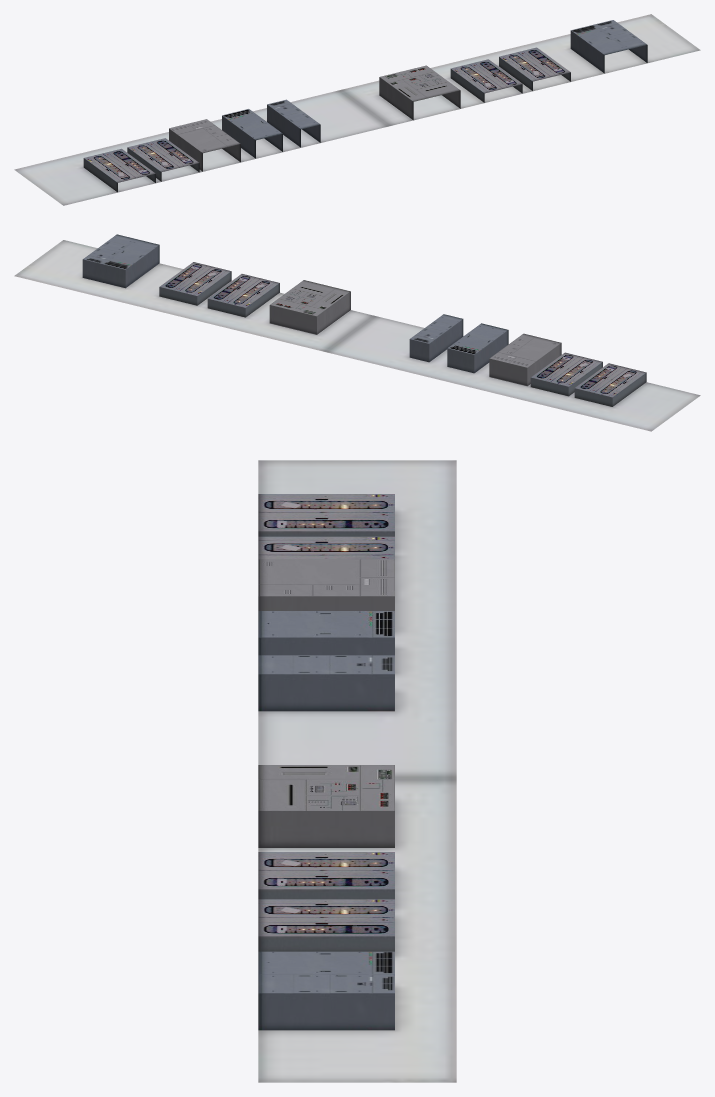
The model's file is murhaut_ar_tri.fbx.
3 views of the same model, one above another, from view 1: azimuth 30°, elevation 25°; view 2: azimuth 150°, elevation 25°; view 3: azimuth 270°, elevation 25° (orthographic). The views are drawn at different scales.
Parts seen in each view (by area): view 1: ShapeIndexedFaceSet, ShapeIndexedFaceSet_005, ShapeIndexedFaceSet_001; view 2: ShapeIndexedFaceSet, ShapeIndexedFaceSet_005, ShapeIndexedFaceSet_001; view 3: ShapeIndexedFaceSet, ShapeIndexedFaceSet_005, ShapeIndexedFaceSet_001.
Boxes of the visible parts, x1,y1,x2,y2 form: ShapeIndexedFaceSet: (14,14,700,205); ShapeIndexedFaceSet_005: (83,47,570,192); ShapeIndexedFaceSet_001: (222,20,647,158); ShapeIndexedFaceSet: (14,240,700,431); ShapeIndexedFaceSet_005: (159,262,646,406); ShapeIndexedFaceSet_001: (82,234,508,373); ShapeIndexedFaceSet: (258,460,456,1082); ShapeIndexedFaceSet_005: (258,494,394,951); ShapeIndexedFaceSet_001: (258,611,394,1030).
Bounding box in the file's own units: 21.57 × 0.6 × 2.9.
